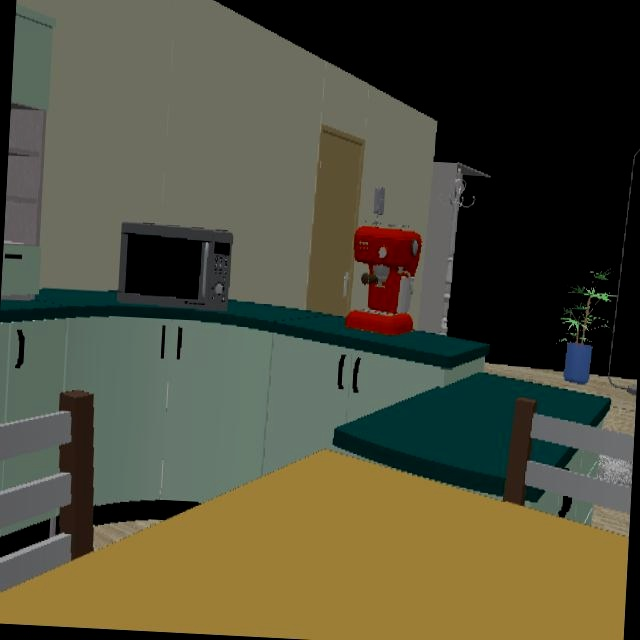cabinet: (0, 318, 449, 507), (1, 5, 56, 299)
chair: (0, 391, 94, 594), (506, 399, 634, 538)
countertop: (0, 289, 490, 368), (332, 374, 611, 482)
microwave: (120, 224, 232, 310)
table: (0, 450, 627, 640)
